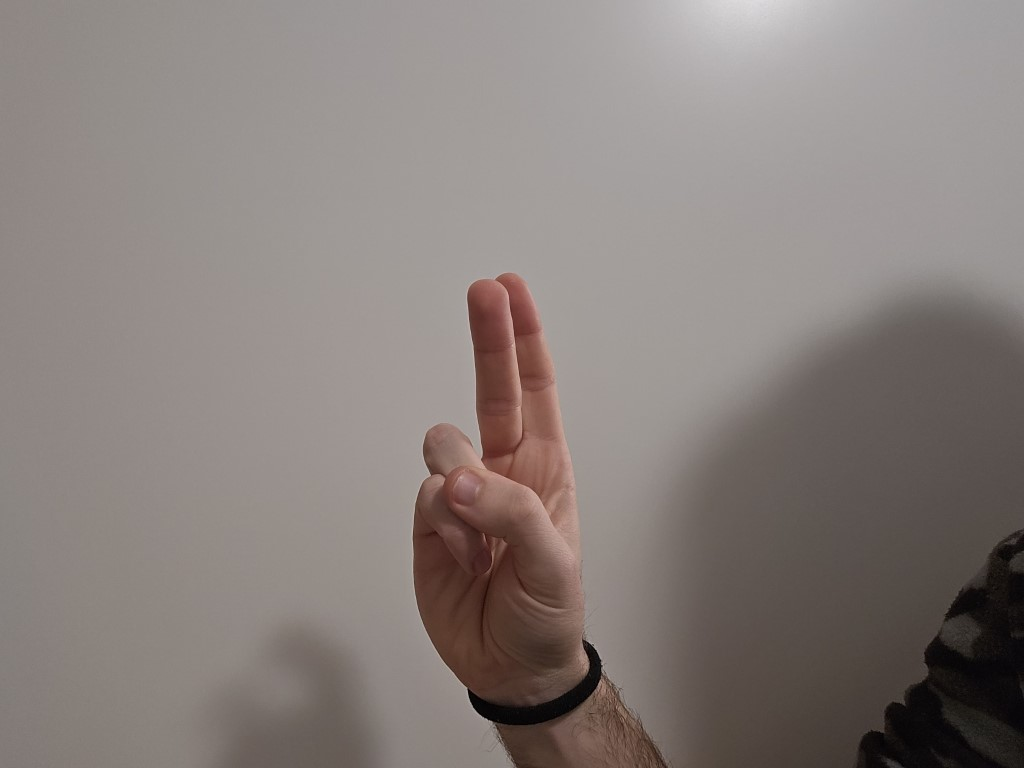r: (381, 264, 616, 666)
